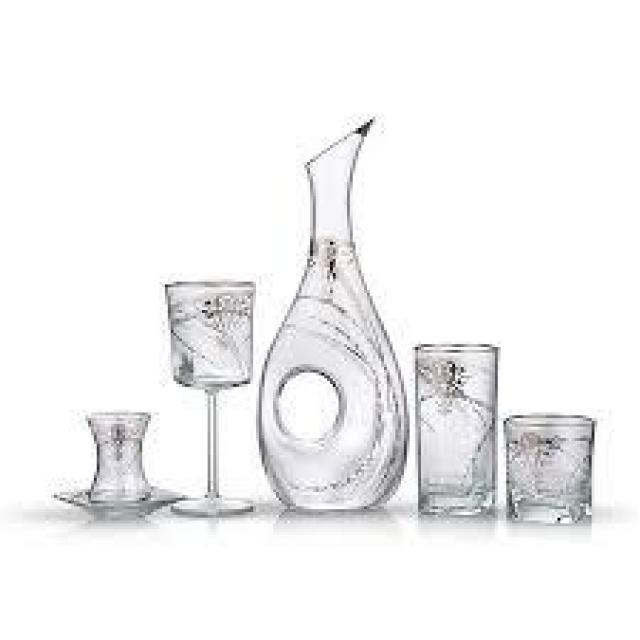non-organic waste: (252, 111, 411, 518), (152, 274, 263, 522), (46, 408, 188, 525), (410, 338, 500, 518), (502, 408, 599, 528)
